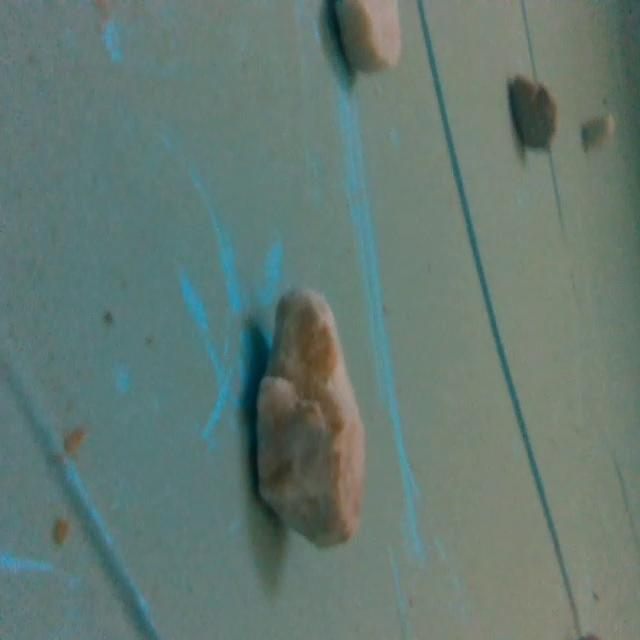rock: (252, 271, 370, 557), (315, 1, 415, 75), (498, 60, 564, 156)
